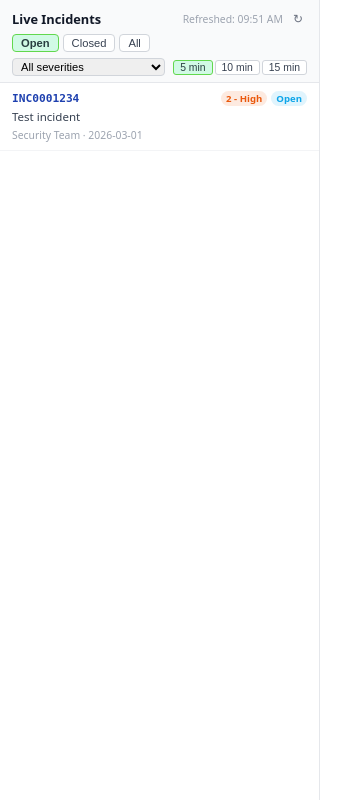
it: IncidentListPanel › expands incident detail on row click
The width and height of the screenshot is (337, 800).
Click the text "INC0001234" at point(46, 98), box [12, 92, 79, 105]
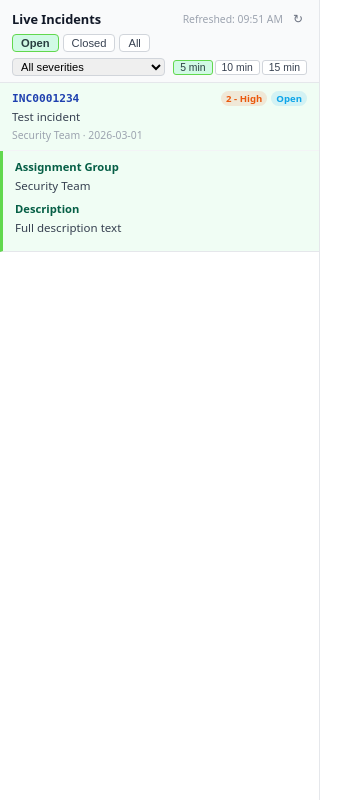
Result: the text "Full description text" is shown at [15, 220, 121, 235]
